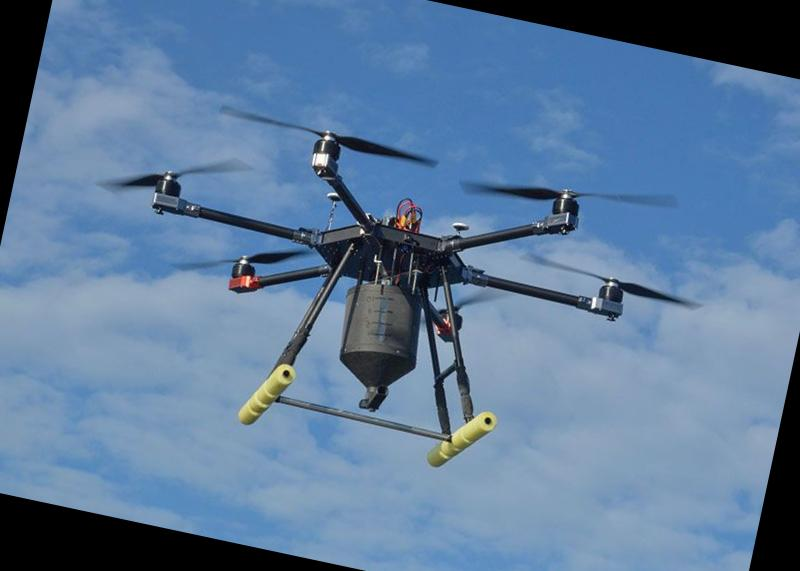drone: (71, 59, 720, 461)
